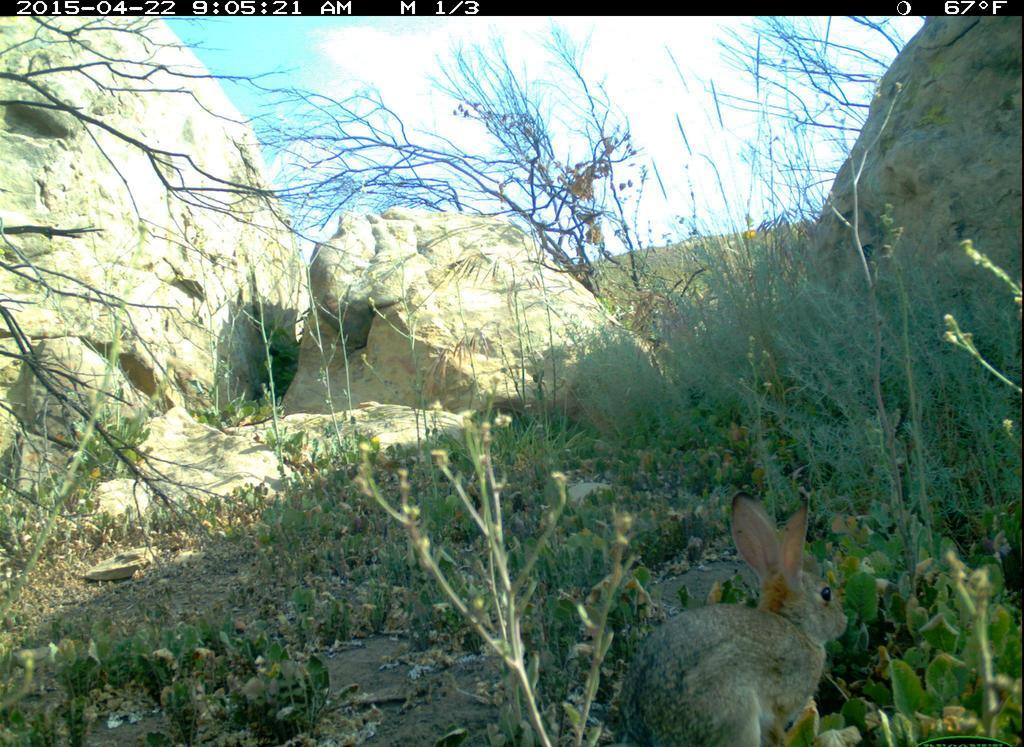rabbit: (616, 491, 863, 747)
